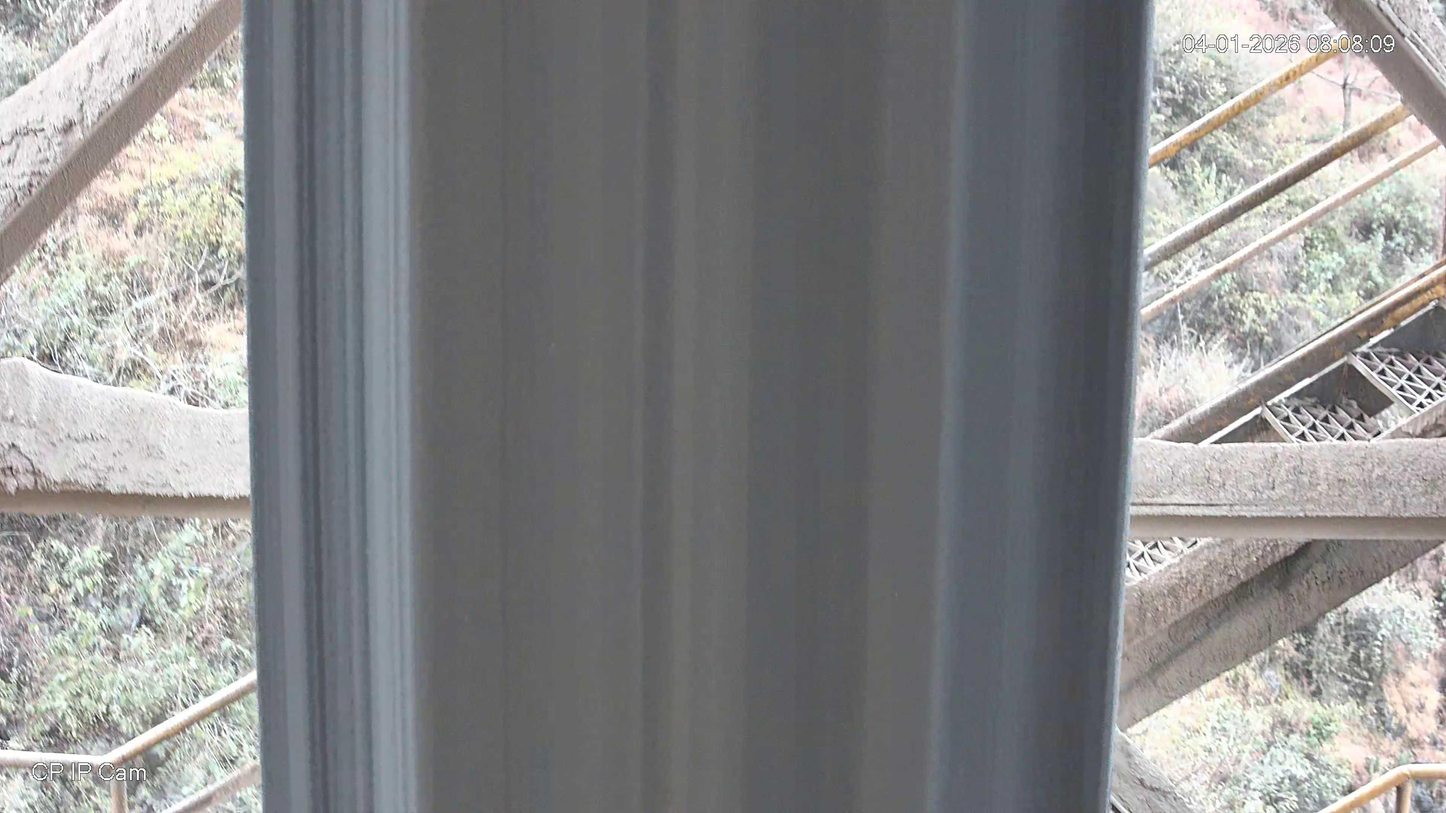belt_roi: (245, 0, 1156, 812)
